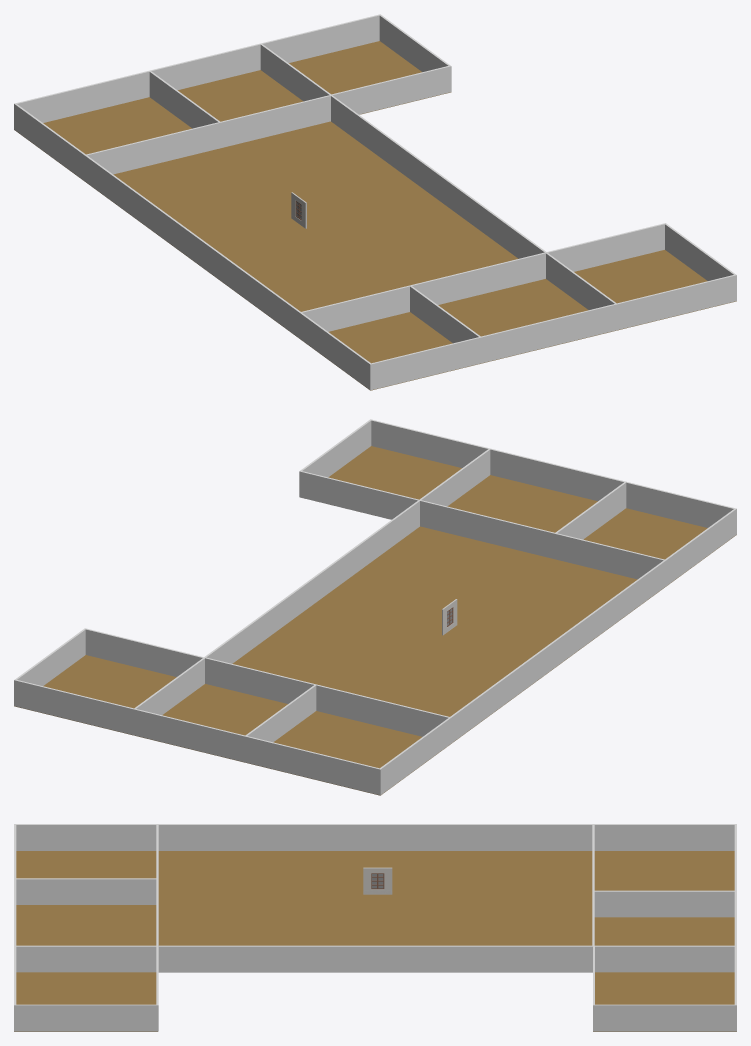
File: teste.fbx
The picture shows the model from 3 angles, top to bottom: view 1: azimuth 30°, elevation 25°; view 2: azimuth 150°, elevation 25°; view 3: azimuth 270°, elevation 25°; orthographic projection.
Parts seen in each view (by area): view 1: Casa.002, Cube.294, Cube.298, Cube.297, Cube.306, Cube.305, Cube.295, Cube.301, Cube.302, Cube.303, Cube.308, Cube.300 (+3 smaller); view 2: Casa.002, Cube.294, Cube.297, Cube.298, Cube.305, Cube.306, Cube.295, Cube.302, Cube.301, Cube.307, Cube.308, Cube.304 (+3 smaller); view 3: Casa.002, Cube.294, Cube.295, Cube.304, Cube.299, Cube.308, Cube.303, Cube.300, Cube.307, Parede, Cube.298, Cube.297 (+2 smaller).
Part boxes in pixels (x1,y1,x2,y2): Casa.002: (14,41,736,390); Cube.294: (14,103,371,390); Cube.298: (371,274,736,389); Cube.297: (16,14,380,122); Cube.306: (86,95,330,174); Cube.305: (301,252,545,331); Cube.295: (331,95,545,258); Cube.301: (331,65,451,114); Cube.302: (547,223,666,271); Cube.303: (260,44,331,101); Cube.308: (149,71,219,128); Cube.300: (379,15,449,71); Casa.002: (14,446,736,795); Cube.294: (378,508,736,795); Cube.297: (14,679,379,794); Cube.298: (370,419,734,527); Cube.305: (420,500,664,579); Cube.306: (205,657,449,736); Cube.295: (204,500,419,663); Cube.302: (299,470,418,519); Cube.301: (84,628,203,676); Cube.307: (555,482,626,539); Cube.308: (245,685,316,742); Cube.304: (418,449,490,506); Casa.002: (14,851,736,1031); Cube.294: (14,824,736,850); Cube.295: (158,945,592,972); Cube.304: (16,945,157,972); Cube.299: (16,1004,156,1031); Cube.308: (594,890,734,917); Cube.303: (593,945,734,972); Cube.300: (595,1004,734,1031); Cube.307: (16,878,156,904); Parede: (363,867,392,894); Cube.298: (14,825,16,1031); Cube.297: (734,825,736,1031).
Bounding box in the file's own units: 5936 × 549 × 10000.
